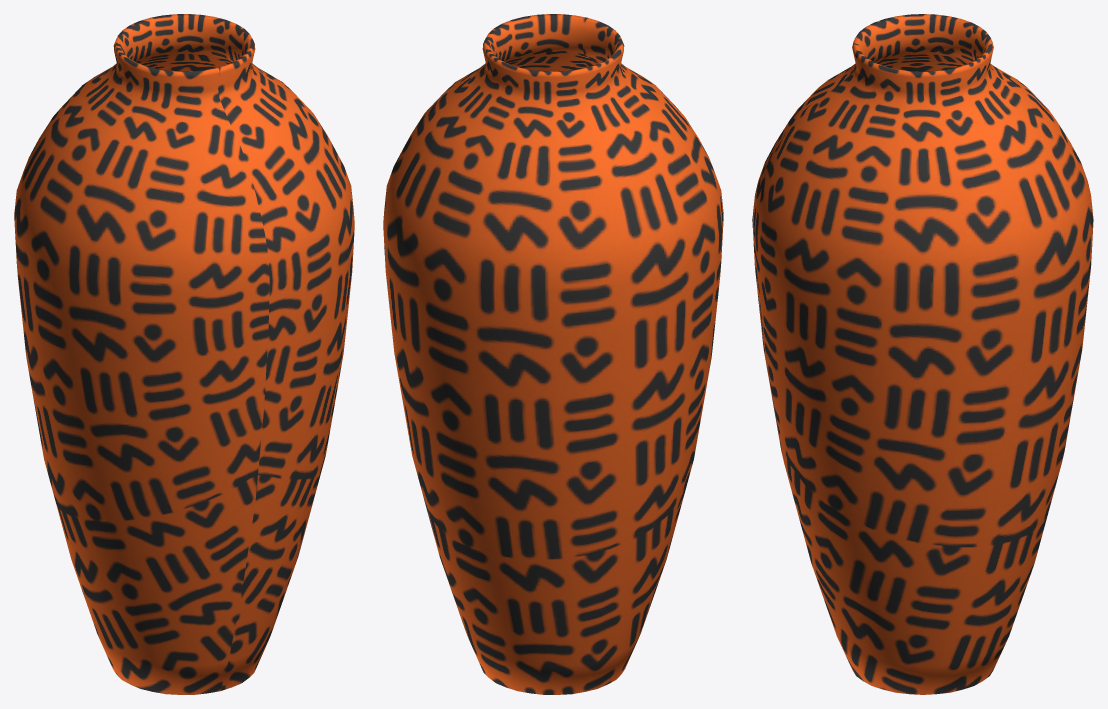
File: Clay_Pot_2.fbx
3 views of the same model, side by side, from view 1: azimuth 30°, elevation 25°; view 2: azimuth 150°, elevation 25°; view 3: azimuth 270°, elevation 25° (orthographic).
Parts seen in each view (by area): view 1: Pot_SkinnyTall; view 2: Pot_SkinnyTall; view 3: Pot_SkinnyTall.
Part boxes in pixels (bbox=[...]): Pot_SkinnyTall: bbox=[14, 14, 354, 694]; Pot_SkinnyTall: bbox=[383, 14, 723, 694]; Pot_SkinnyTall: bbox=[752, 14, 1093, 694].
Bounding box in the file's own units: 32.84 × 65.98 × 32.84.
